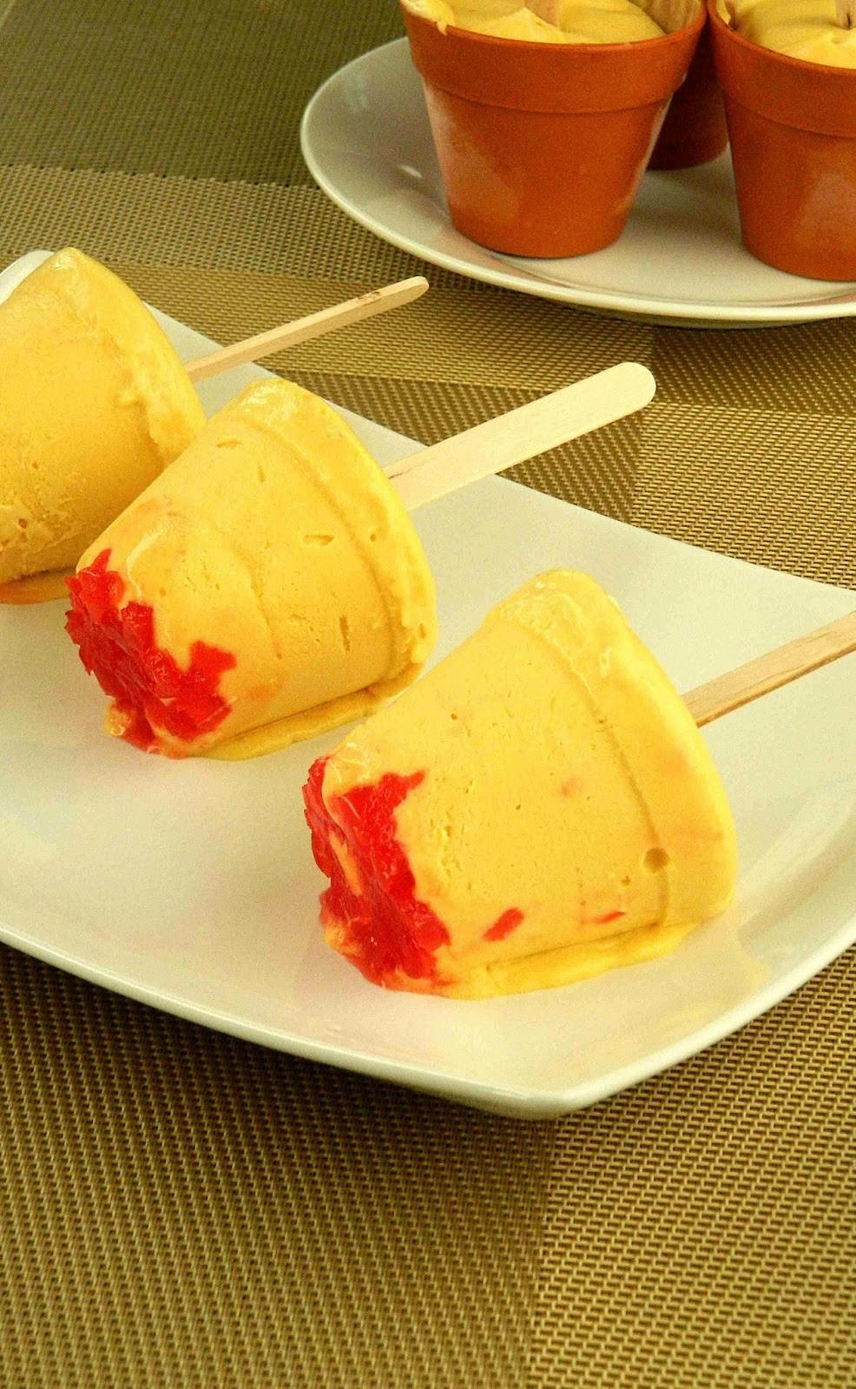Kulfi: (305, 571, 756, 985), (59, 368, 437, 753), (0, 240, 199, 585)
